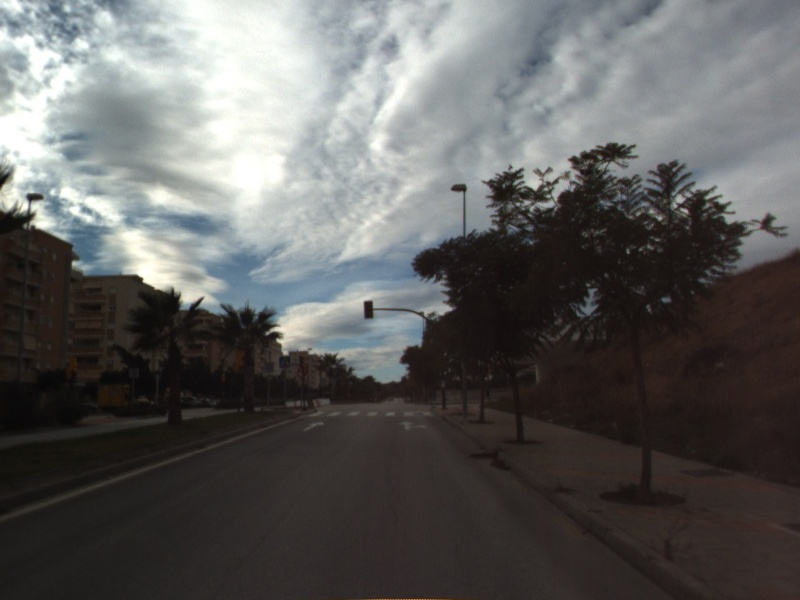STRAIGHT: (301, 419, 326, 433)
STRAIGHT_RIGHT: (396, 419, 429, 432)
